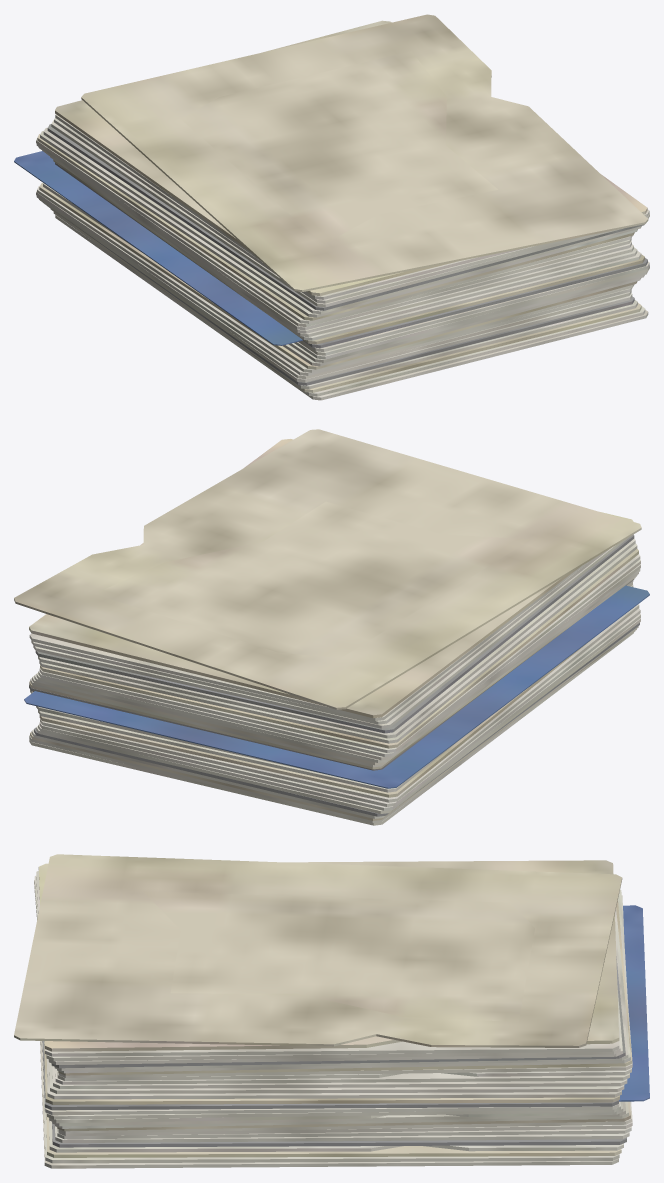
File: O11_paper_stacks_v1.glb
3 renders of one model, top to bottom at view 1: azimuth 30°, elevation 25°; view 2: azimuth 150°, elevation 25°; view 3: azimuth 270°, elevation 25°, orthographic. The views are drawn at different scales.
Parts seen in each view (by area): view 1: Worn paper leaf; view 2: Worn paper leaf; view 3: Worn paper leaf.
Boxes of the visible parts, x1=… form: Worn paper leaf: x1=14, y1=14, x2=649, y2=400; Worn paper leaf: x1=14, y1=429, x2=649, y2=825; Worn paper leaf: x1=14, y1=854, x2=649, y2=1168.
Bounding box in the file's own units: 0.3214 × 0.0938 × 0.4.
4 materials, 4 textured.
